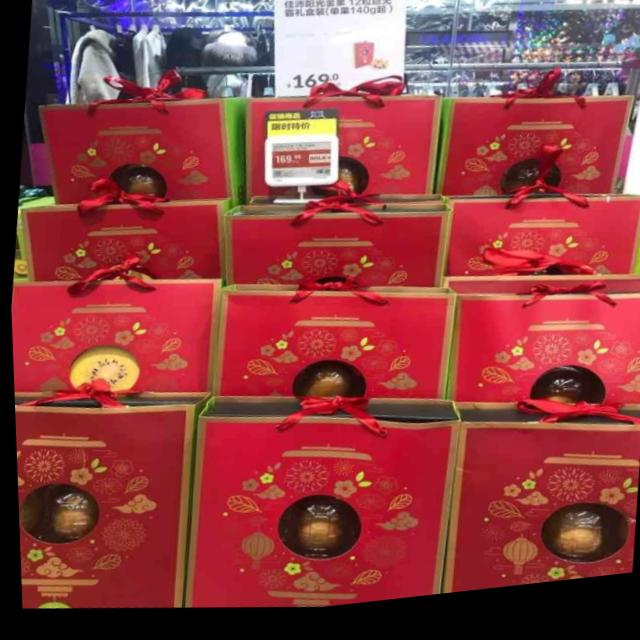box: (178, 399, 457, 613), (11, 380, 210, 611), (437, 412, 639, 603), (208, 289, 455, 409), (440, 287, 640, 420), (9, 280, 219, 397), (37, 103, 246, 212), (220, 199, 450, 296), (430, 108, 633, 207), (441, 204, 640, 288), (18, 203, 228, 282), (306, 102, 441, 204), (245, 102, 307, 207)
